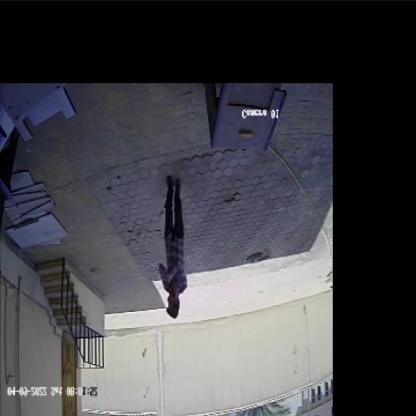handgun: (158, 270, 180, 296)
